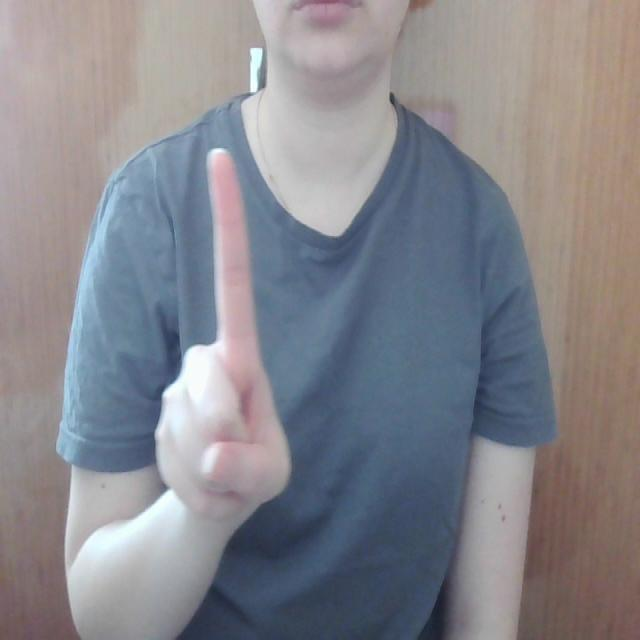Hayir: (143, 134, 300, 537)
